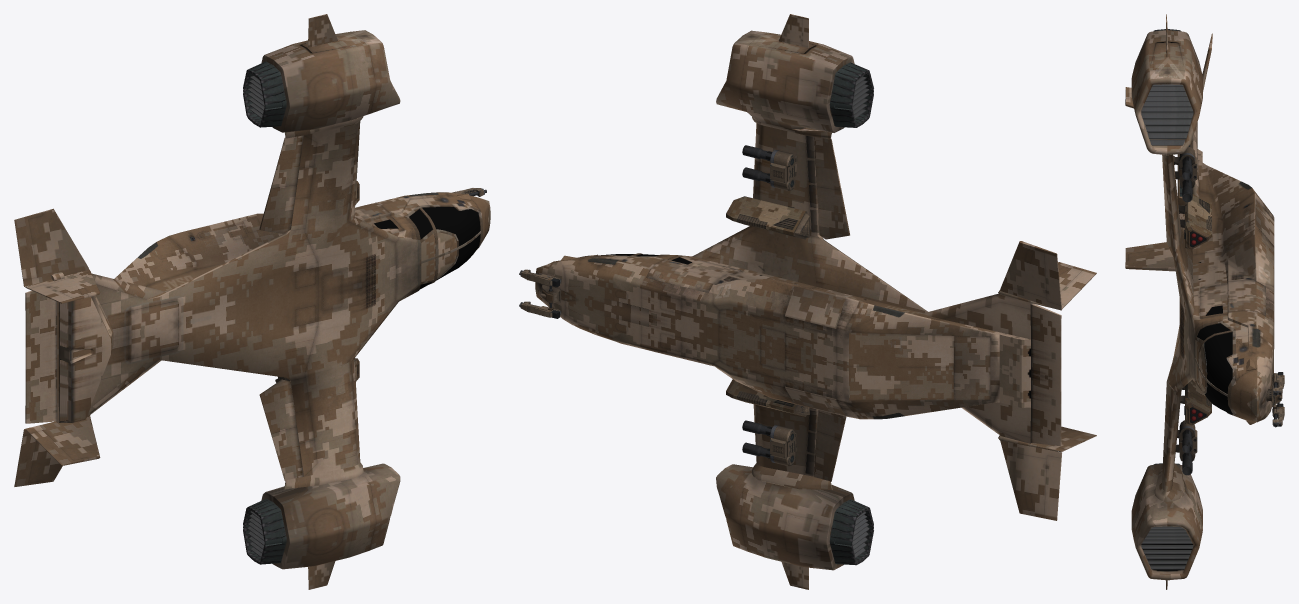
File: veh_t6_air_v78_vtol_killstreak_LOD0.obj
3 views of the same model, side by side, from view 1: azimuth 30°, elevation 25°; view 2: azimuth 150°, elevation 25°; view 3: azimuth 270°, elevation 25° (orthographic).
Visible parts, largest first — view 1: mtl_veh_t6_v78_vtol_friend, mtl_veh_t6_air_fa38_glass_opaque, mtl_veh_t6_v78_vtol_interior; view 2: mtl_veh_t6_v78_vtol_friend, mtl_veh_t6_v78_vtol_guns_friend, mtl_veh_t6_v78_vtol_interior; view 3: mtl_veh_t6_v78_vtol_friend, mtl_veh_t6_v78_vtol_guns_friend, mtl_veh_t6_v78_vtol_interior, mtl_veh_t6_air_fa38_glass_opaque.
Boxes of the visible parts, x1,y1,x2,y2 form: mtl_veh_t6_v78_vtol_friend: [14, 14, 490, 589]; mtl_veh_t6_air_fa38_glass_opaque: [374, 207, 480, 289]; mtl_veh_t6_v78_vtol_interior: [247, 74, 457, 557]; mtl_veh_t6_v78_vtol_friend: [535, 14, 1096, 589]; mtl_veh_t6_v78_vtol_guns_friend: [519, 145, 809, 466]; mtl_veh_t6_v78_vtol_interior: [737, 75, 869, 557]; mtl_veh_t6_v78_vtol_friend: [1125, 14, 1274, 589]; mtl_veh_t6_v78_vtol_guns_friend: [1173, 147, 1284, 475]; mtl_veh_t6_v78_vtol_interior: [1141, 84, 1253, 569]; mtl_veh_t6_air_fa38_glass_opaque: [1197, 305, 1232, 414].
Bounding box in the file's own units: 1954 × 2118 × 539.
